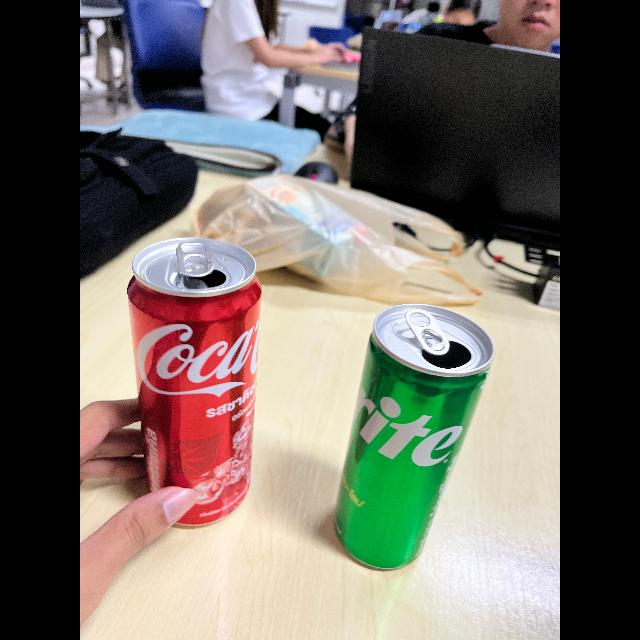can: (315, 291, 511, 571), (112, 227, 268, 538)
